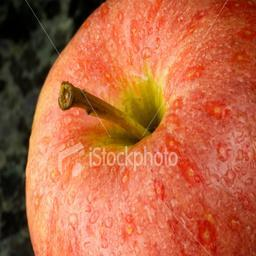apple: (23, 2, 256, 254)
